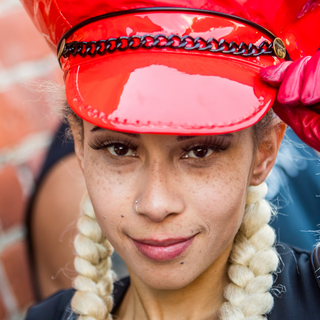eye: (176, 140, 227, 165), (94, 138, 142, 164)
